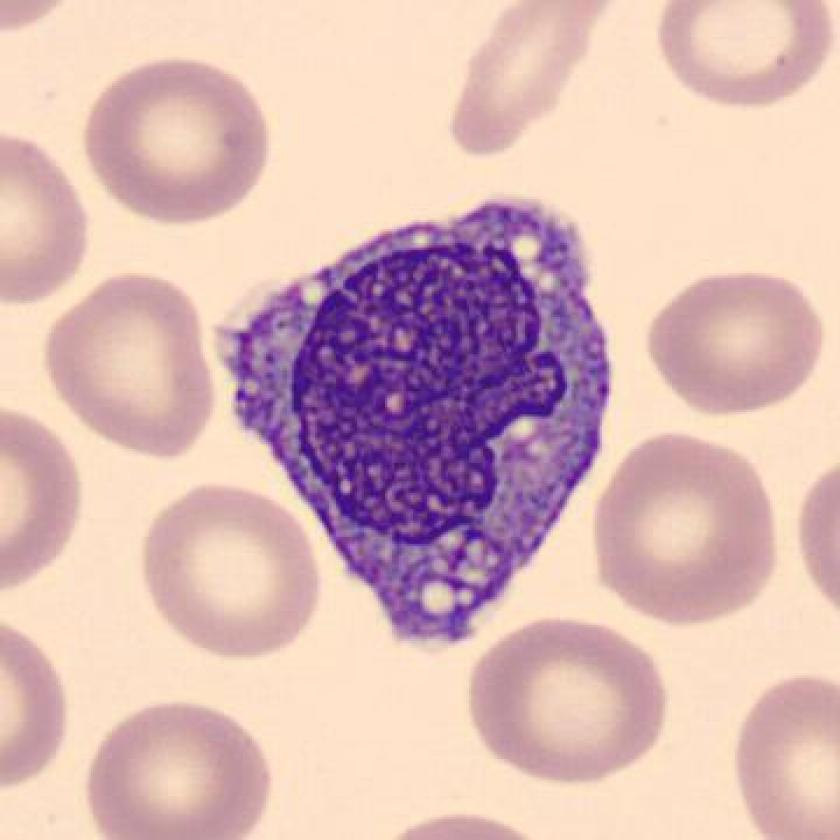monocyte: (186, 170, 627, 663)
